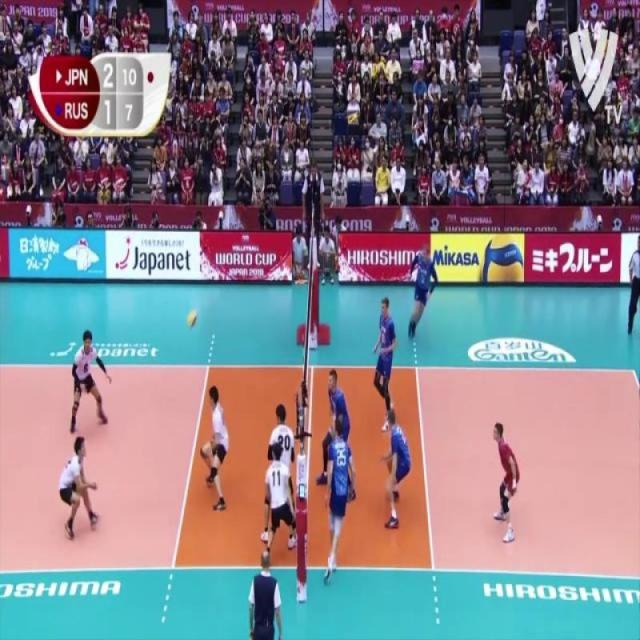volleyball: (481, 235, 524, 282), (187, 310, 198, 326)
